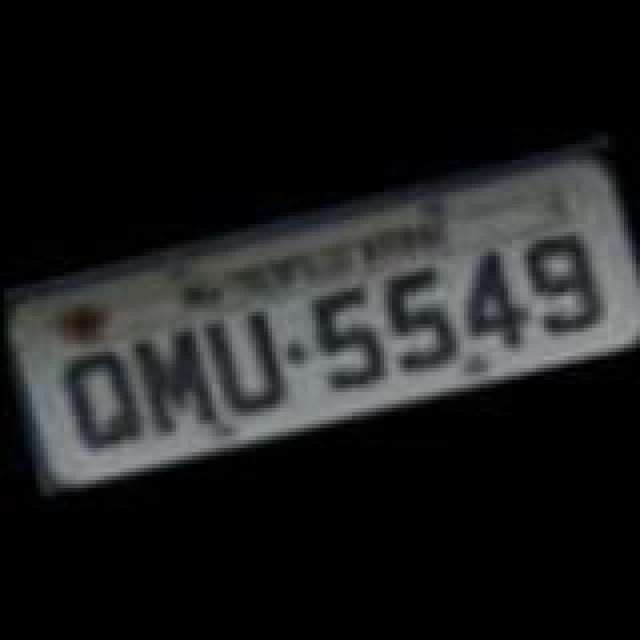4: (440, 238, 536, 362)
5: (370, 260, 470, 380), (300, 274, 396, 394)
9: (514, 224, 614, 344)
M: (124, 324, 224, 440)
Q: (48, 338, 148, 454)
U: (194, 302, 294, 418)
